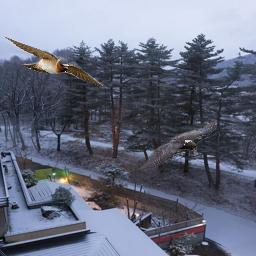Crow: (138, 121, 217, 170)
Swallow: (2, 34, 107, 88)
